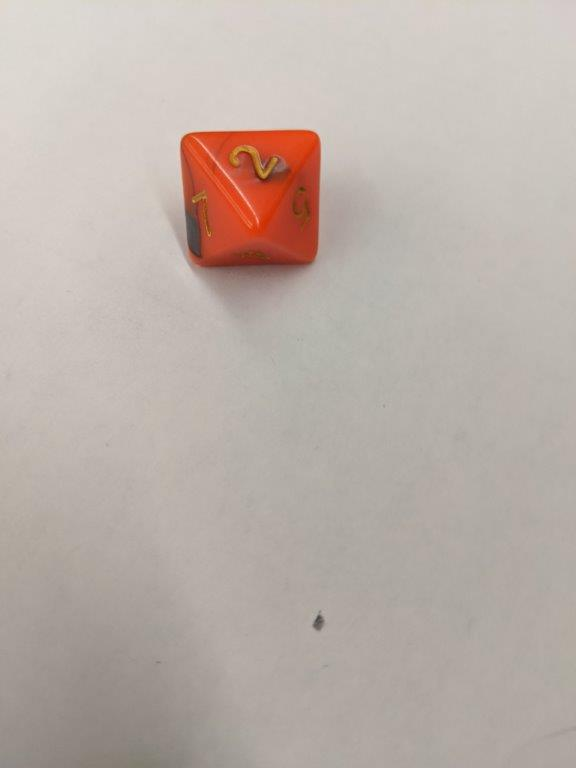d8-2: (179, 127, 323, 267)
